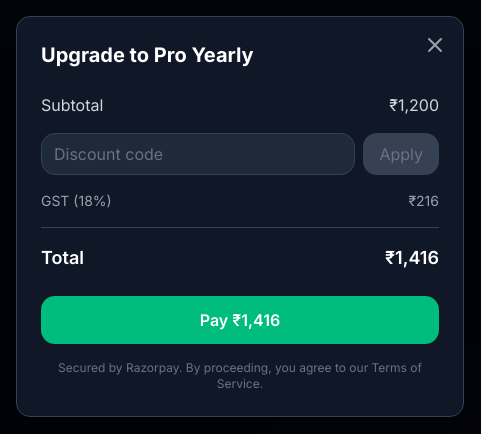
Scenario: CheckoutModal › checkout button › should display Processing... when payment is processing
This screenshot has width=481, height=434.
Click the button "Pay ₹1,416" at (240, 320), box [41,296,439,344]
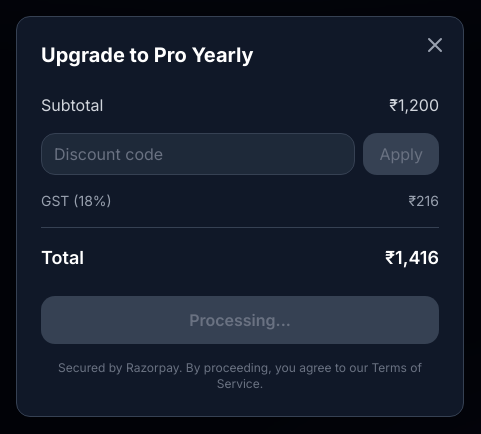
expect the button "Processing..." is shown: met, box [41,296,439,344]
